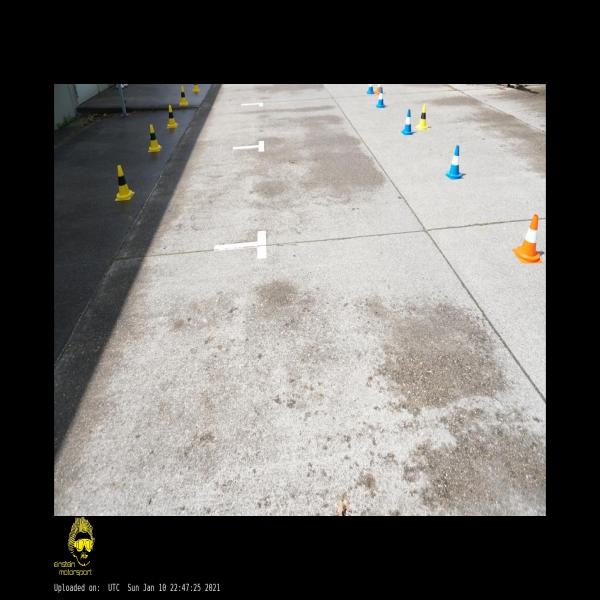blue_cone: (445, 145, 464, 179), (401, 109, 413, 135), (376, 87, 386, 107), (366, 84, 375, 94)
orange_cone: (512, 215, 543, 263), (374, 84, 380, 94)
yellow_cone: (114, 165, 134, 200), (148, 124, 162, 152), (416, 105, 429, 129), (167, 105, 178, 128), (179, 86, 188, 106), (192, 84, 200, 92)
